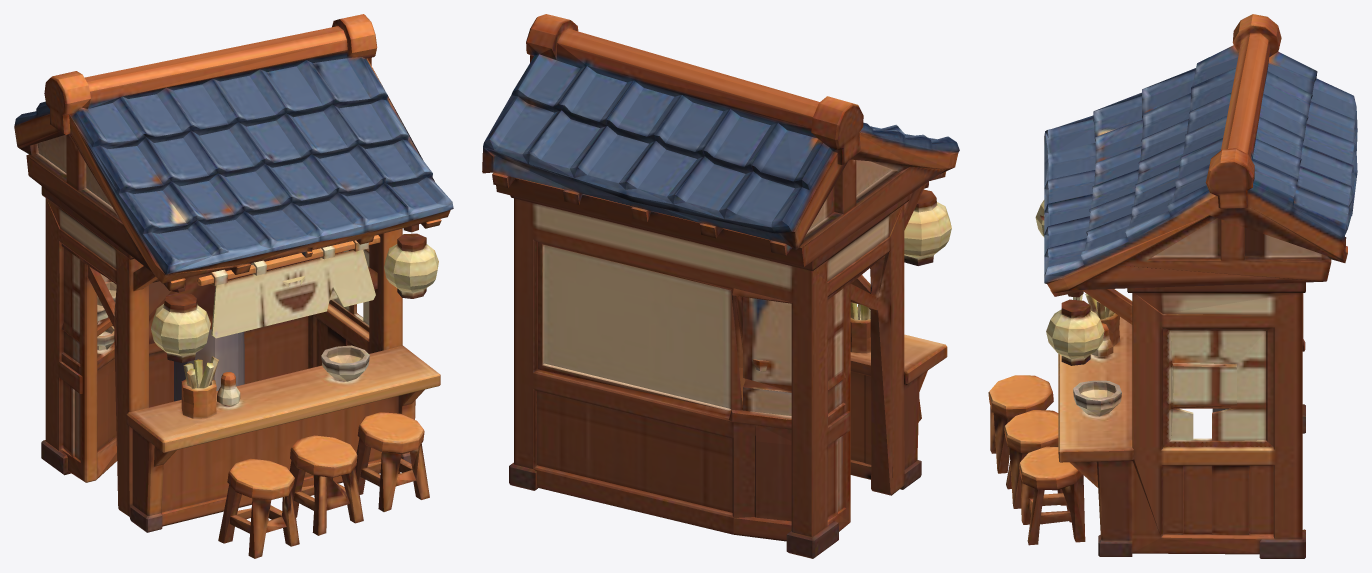
The model's file is noodle-DRZmCMo_.glb.
The picture shows the model from 3 angles, left to right: view 1: azimuth 30°, elevation 25°; view 2: azimuth 150°, elevation 25°; view 3: azimuth 270°, elevation 25°; orthographic projection. The views are drawn at different scales.
Visible parts, largest first — view 1: tripo_node_633882cc-6948-4750-b5cf-e8834bd9b51f; view 2: tripo_node_633882cc-6948-4750-b5cf-e8834bd9b51f; view 3: tripo_node_633882cc-6948-4750-b5cf-e8834bd9b51f.
Part boxes in pixels (left/top/right/bottom): tripo_node_633882cc-6948-4750-b5cf-e8834bd9b51f: left=14, top=14, right=453, bottom=558; tripo_node_633882cc-6948-4750-b5cf-e8834bd9b51f: left=482, top=14, right=959, bottom=558; tripo_node_633882cc-6948-4750-b5cf-e8834bd9b51f: left=988, top=14, right=1357, bottom=558.
Size of the model in its own units: 0.7681 by 0.9788 by 0.8103.
Materials: 1 (1 with a texture image).
